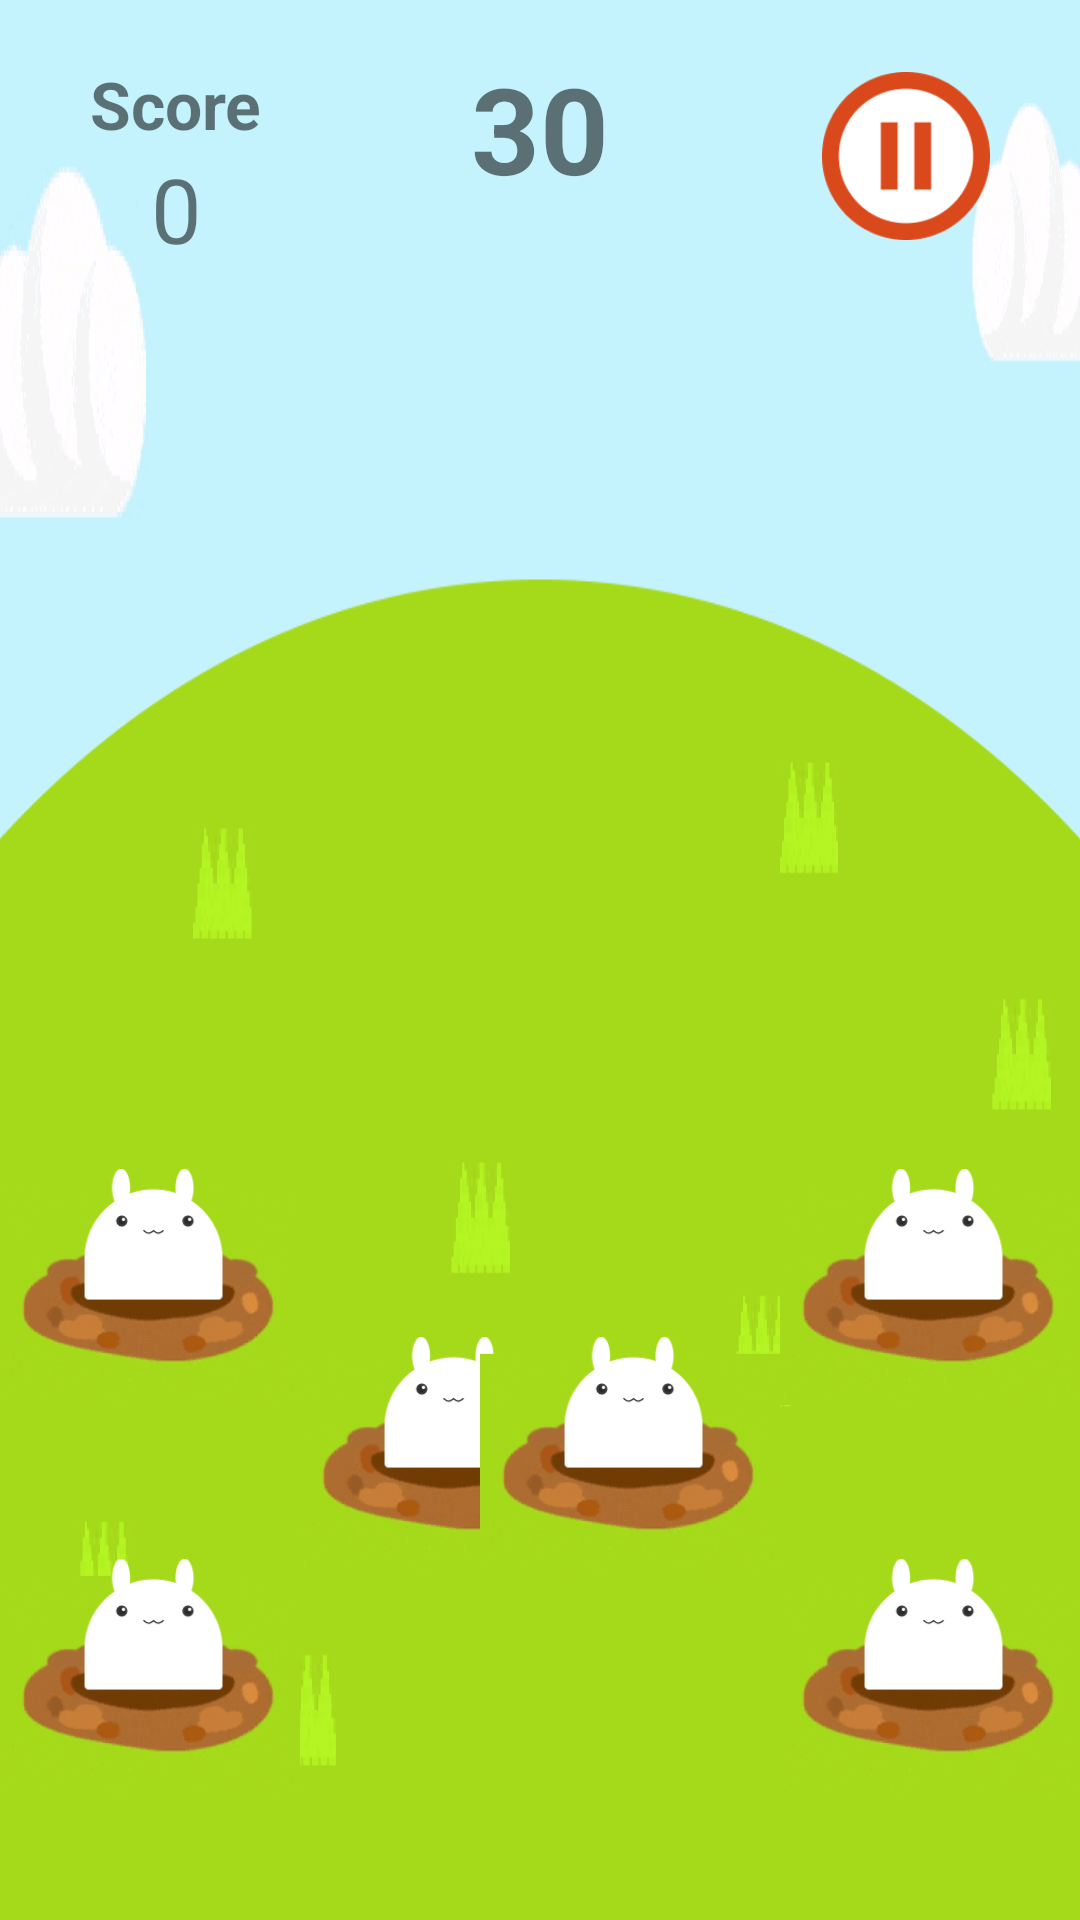

Point at icon controls on the screen. Image size 1080x1920, points as point (x, y).
pause: point (906, 156)
